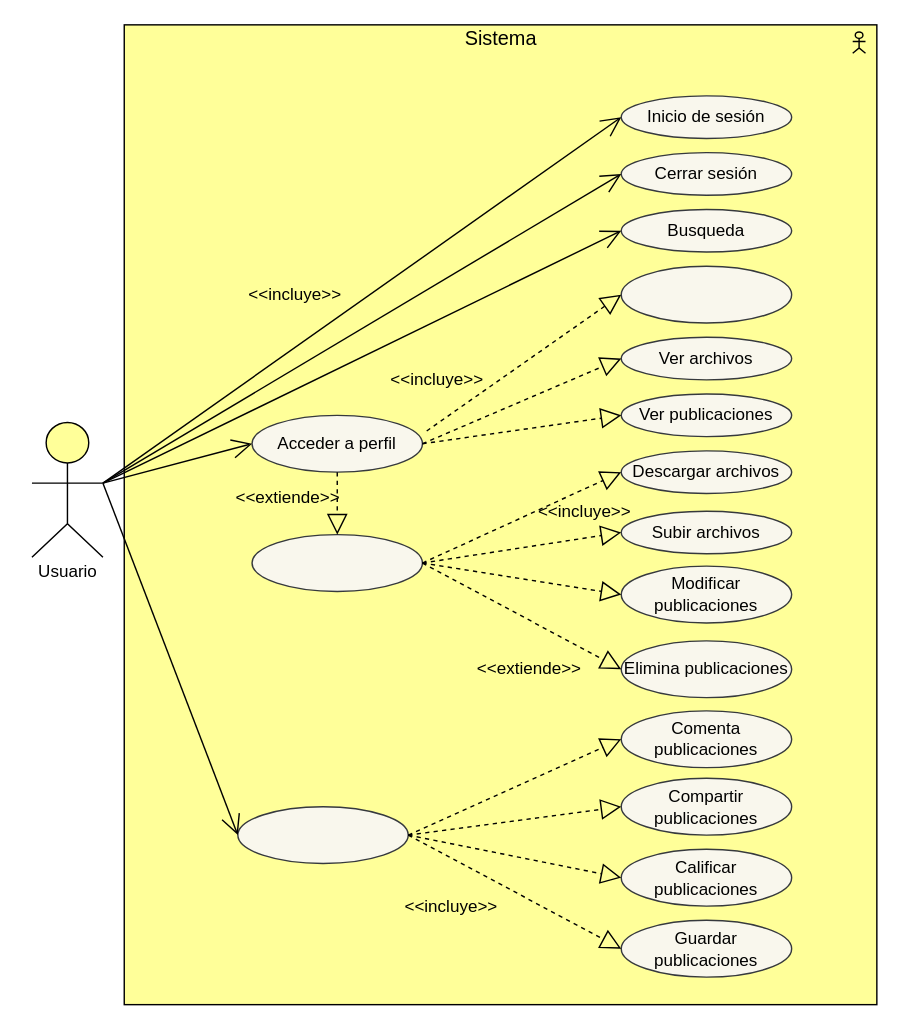
The diagram is 902 pixels wide and 1030 high, and some of its shapes have lost their labels. Here are the shapes that lost their labels. From the top down, the centre of each, then its label:
At [706,294]: "Ver datos de usuario".
At [336,562]: "Creación de publicaciones".
At [322,834]: "Acceder a publicaciones".
